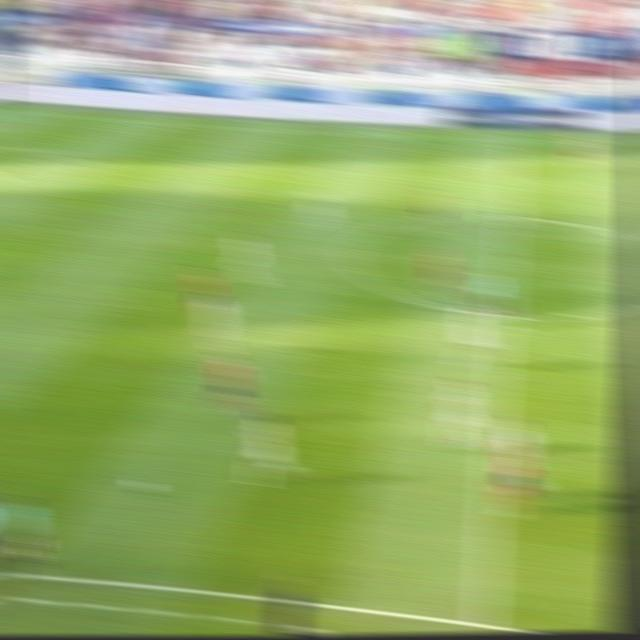bigarea_top_inner: (37, 139, 71, 160)
halfcircle_bottom: (484, 298, 520, 331)
halfcircle_top: (491, 202, 526, 229)
midline_bottom_intersection: (463, 601, 506, 633)
midline_top_intersection: (497, 127, 528, 151)
